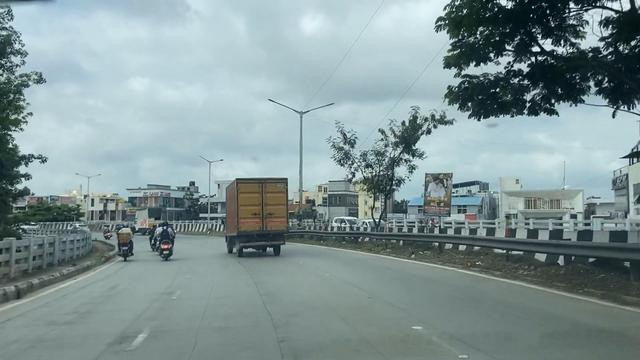HMV: (226, 173, 289, 258)
LMV: (115, 211, 135, 267), (153, 215, 175, 264)
